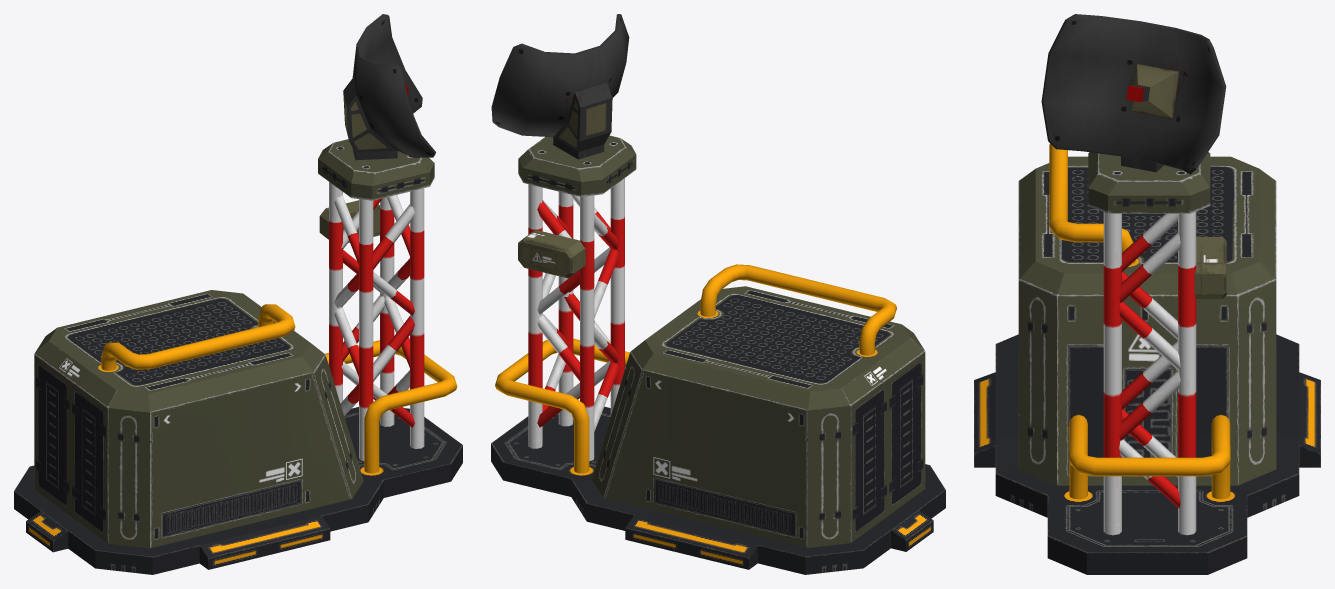
The model's file is rts_radar_tower.glb.
The picture shows the model from 3 angles, left to right: view 1: azimuth 30°, elevation 25°; view 2: azimuth 150°, elevation 25°; view 3: azimuth 270°, elevation 25°; orthographic projection. The views are drawn at different scales.
Parts seen in each view (by area): view 1: radar_tower, antene; view 2: radar_tower, antene; view 3: radar_tower, antene.
Part boxes in pixels (x1=…): radar_tower: x1=14, y1=139, x2=462, y2=574; antene: x1=343, y1=14, x2=435, y2=160; radar_tower: x1=491, y1=135, x2=945, y2=574; antene: x1=491, y1=14, x2=629, y2=159; radar_tower: x1=974, y1=143, x2=1320, y2=574; antene: x1=1041, y1=14, x2=1226, y2=174.
Bounding box in the file's own units: 1168 × 1166 × 708.
Materials: 2 (2 with a texture image).
